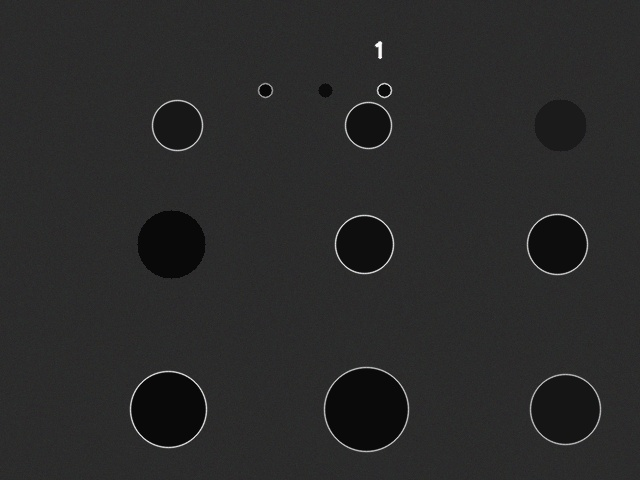hole: (324, 367, 408, 451), (130, 371, 206, 447), (530, 374, 600, 444), (137, 210, 205, 278), (527, 214, 587, 274), (335, 215, 393, 273), (534, 99, 586, 151), (152, 100, 202, 150), (345, 102, 391, 148), (258, 83, 272, 97), (318, 83, 332, 97), (377, 83, 391, 97)
